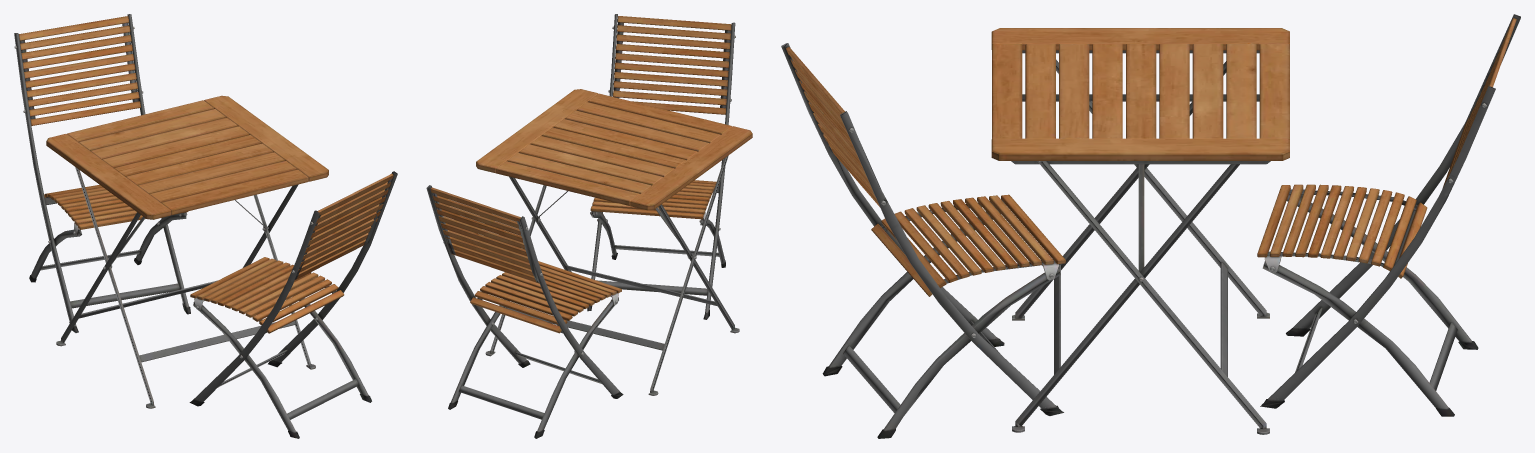
Rendered from outdoor_table_chair_set_01.glb.
The picture shows the model from 3 angles, left to right: view 1: azimuth 30°, elevation 25°; view 2: azimuth 150°, elevation 25°; view 3: azimuth 270°, elevation 25°; orthographic projection. The views are drawn at different scales.
Parts seen in each view (by area): view 1: outdoor_table_chair_set_01_chair_01, outdoor_table_chair_set_01_table; view 2: outdoor_table_chair_set_01_chair_01, outdoor_table_chair_set_01_table; view 3: outdoor_table_chair_set_01_table, outdoor_table_chair_set_01_chair_01.
Boxes of the visible parts, x1,y1,x2,y2 form: outdoor_table_chair_set_01_chair_01: (14,14,397,438); outdoor_table_chair_set_01_table: (46,95,328,408); outdoor_table_chair_set_01_chair_01: (426,14,735,438); outdoor_table_chair_set_01_table: (476,89,752,395); outdoor_table_chair_set_01_table: (991,28,1289,434); outdoor_table_chair_set_01_chair_01: (781,14,1520,438).
Size of the model in its own units: 0.7417 by 0.8579 by 1.72.
Materials: 2 (2 with a texture image).
